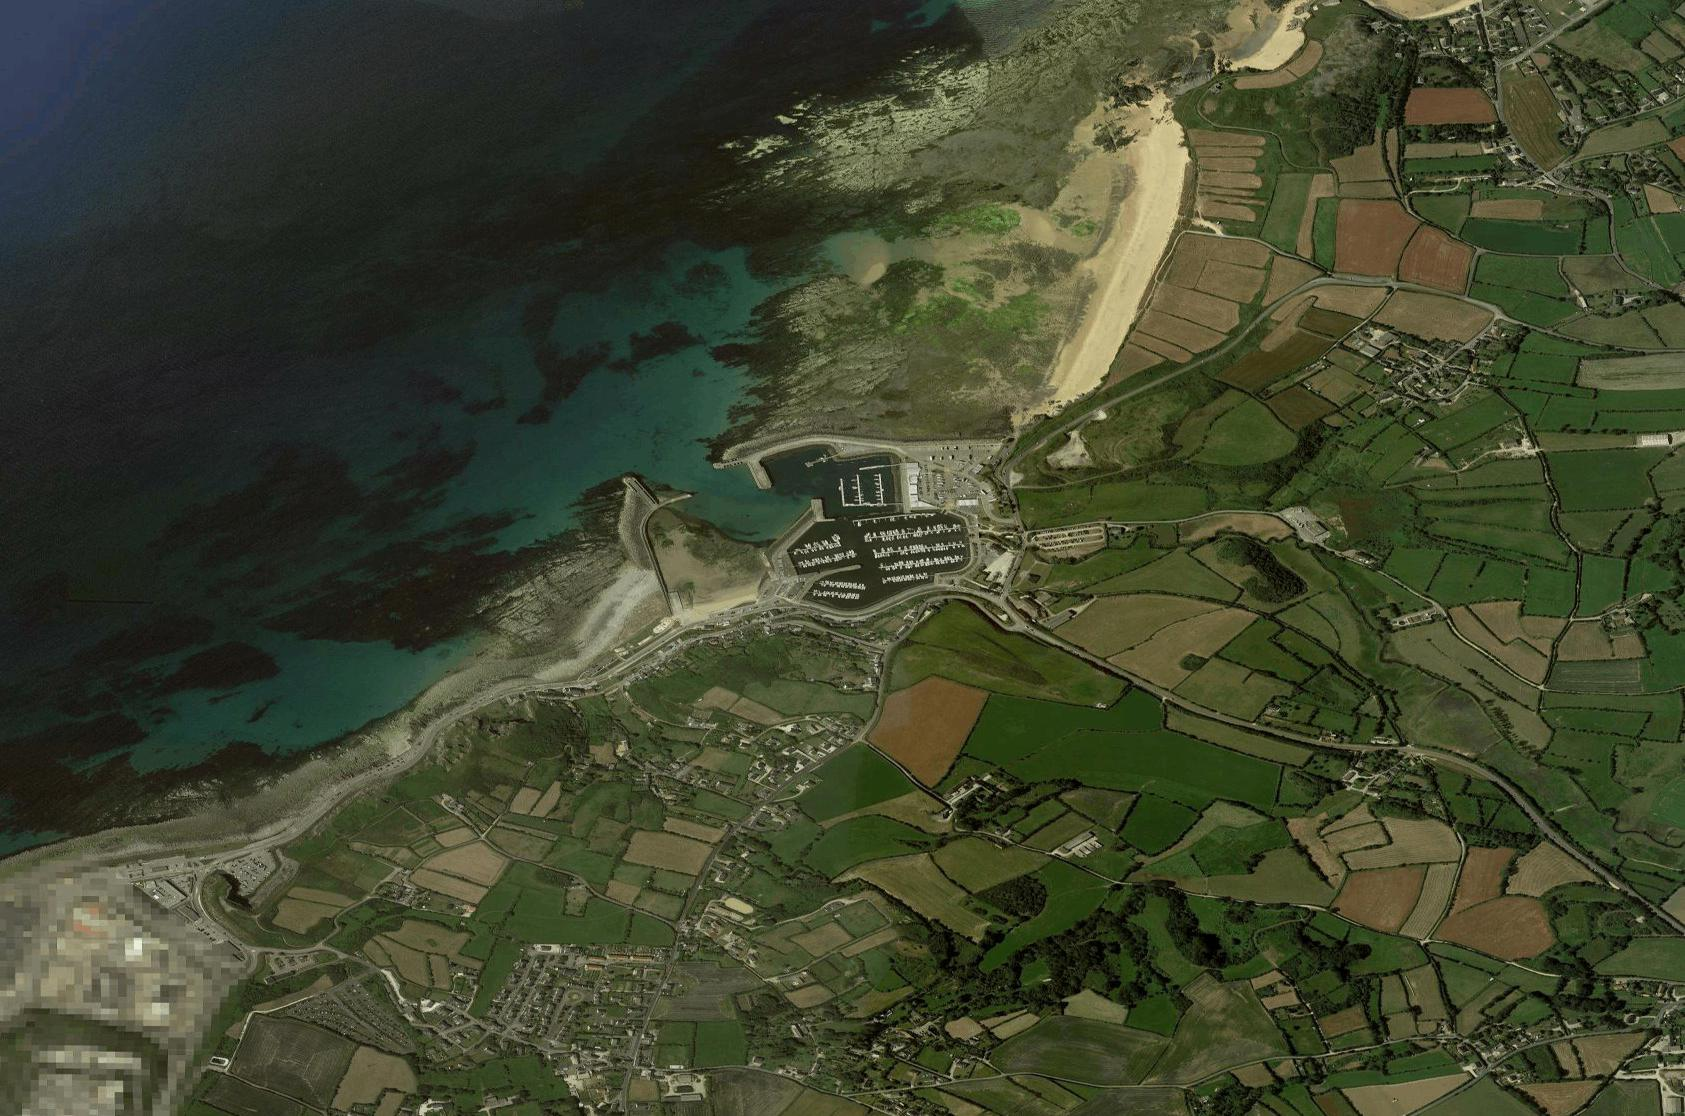harbor: (709, 421, 1001, 608)
